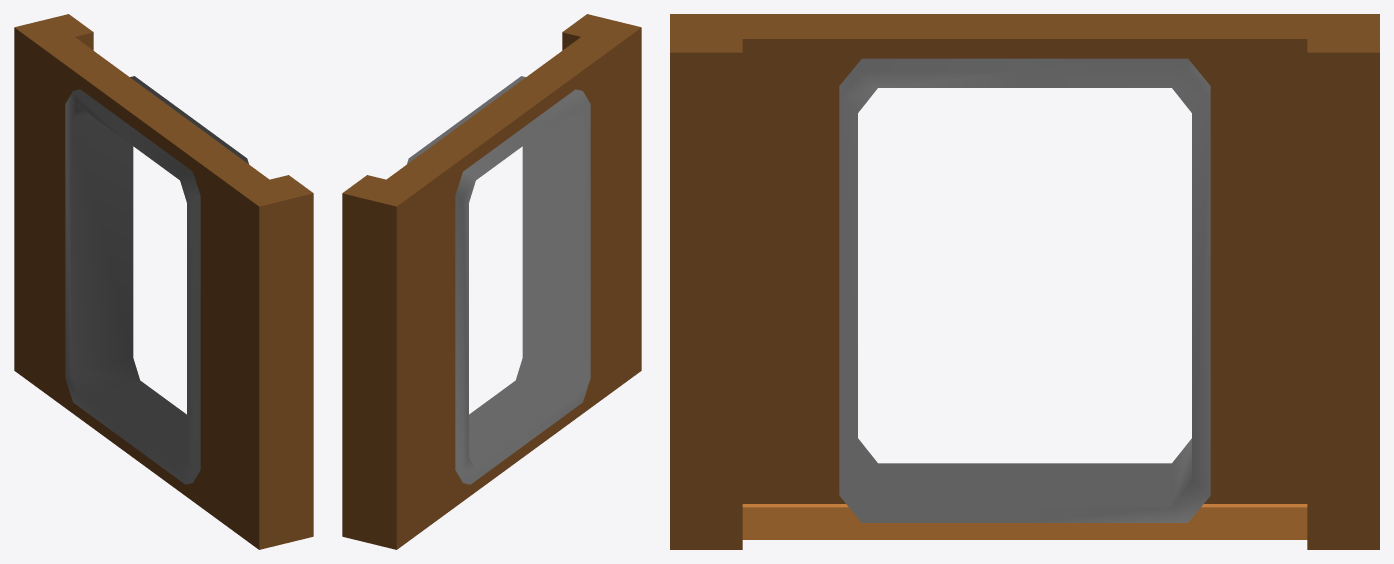
Rendered from wall_door.fbx.
3 views of the same model, side by side, from view 1: azimuth 30°, elevation 25°; view 2: azimuth 150°, elevation 25°; view 3: azimuth 270°, elevation 25° (orthographic). The views are drawn at different scales.
Visible parts, largest first — view 1: wall_base; view 2: wall_base; view 3: wall_base.
Part boxes in pixels (<box>): wall_base: <box>14,14,313,549</box>; wall_base: <box>342,14,641,549</box>; wall_base: <box>670,14,1379,549</box>.
Bounding box in the file's own units: 201 × 1064 × 1376.
